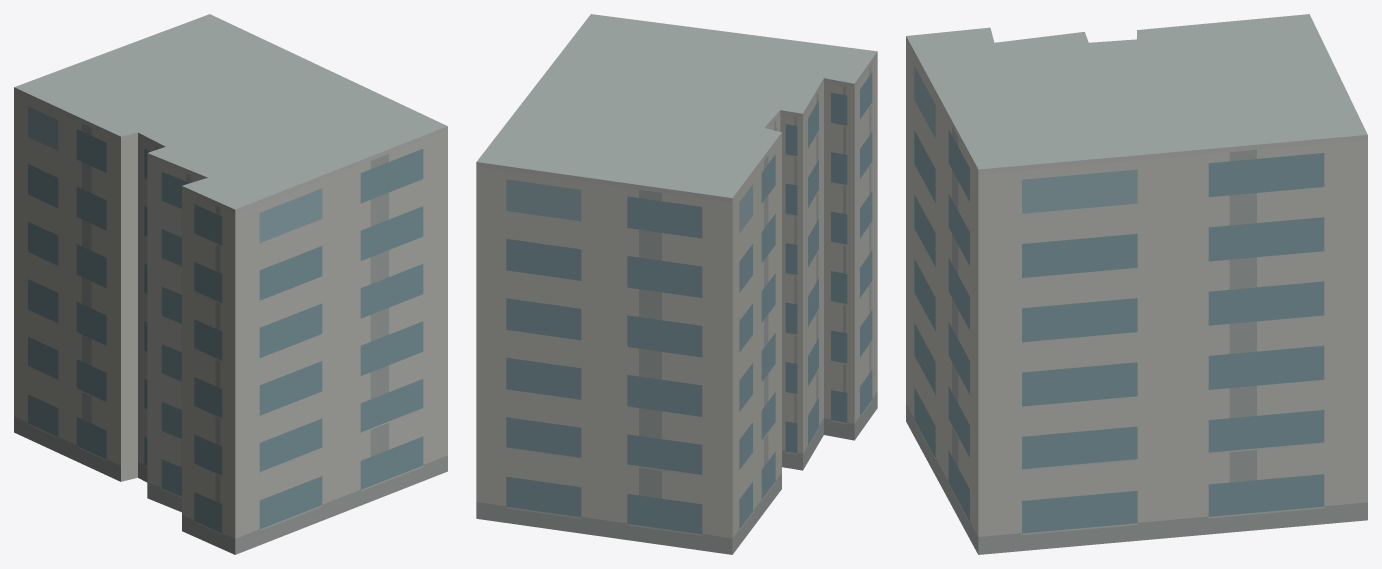
Rendered from survey-upis-32945067.glb.
3 views of the same model, side by side, from view 1: azimuth 30°, elevation 25°; view 2: azimuth 150°, elevation 25°; view 3: azimuth 270°, elevation 25° (orthographic). The views are drawn at different scales.
Visible parts, largest first — view 1: survey-upis-32945067.tmp; view 2: survey-upis-32945067.tmp; view 3: survey-upis-32945067.tmp.
Boxes of the visible parts, x1=… form: survey-upis-32945067.tmp: x1=14, y1=14, x2=447, y2=554; survey-upis-32945067.tmp: x1=476, y1=14, x2=877, y2=554; survey-upis-32945067.tmp: x1=906, y1=14, x2=1367, y2=554.
Bounding box in the file's own units: 15.91 × 18.38 × 19.96.
